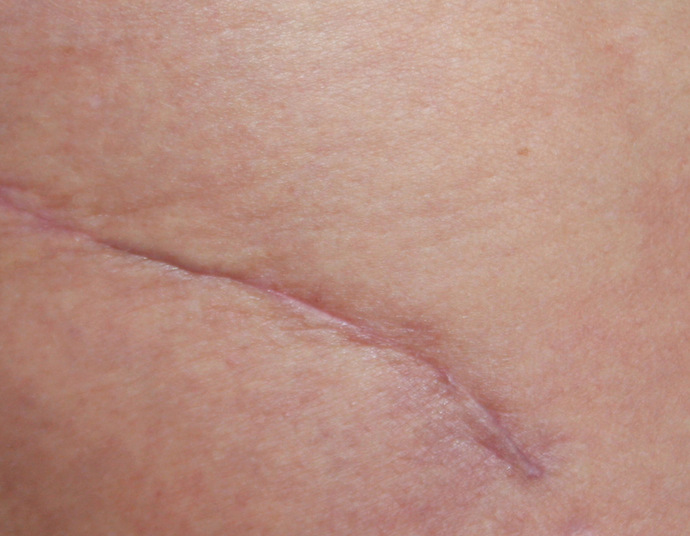scar: (3, 175, 552, 489)
